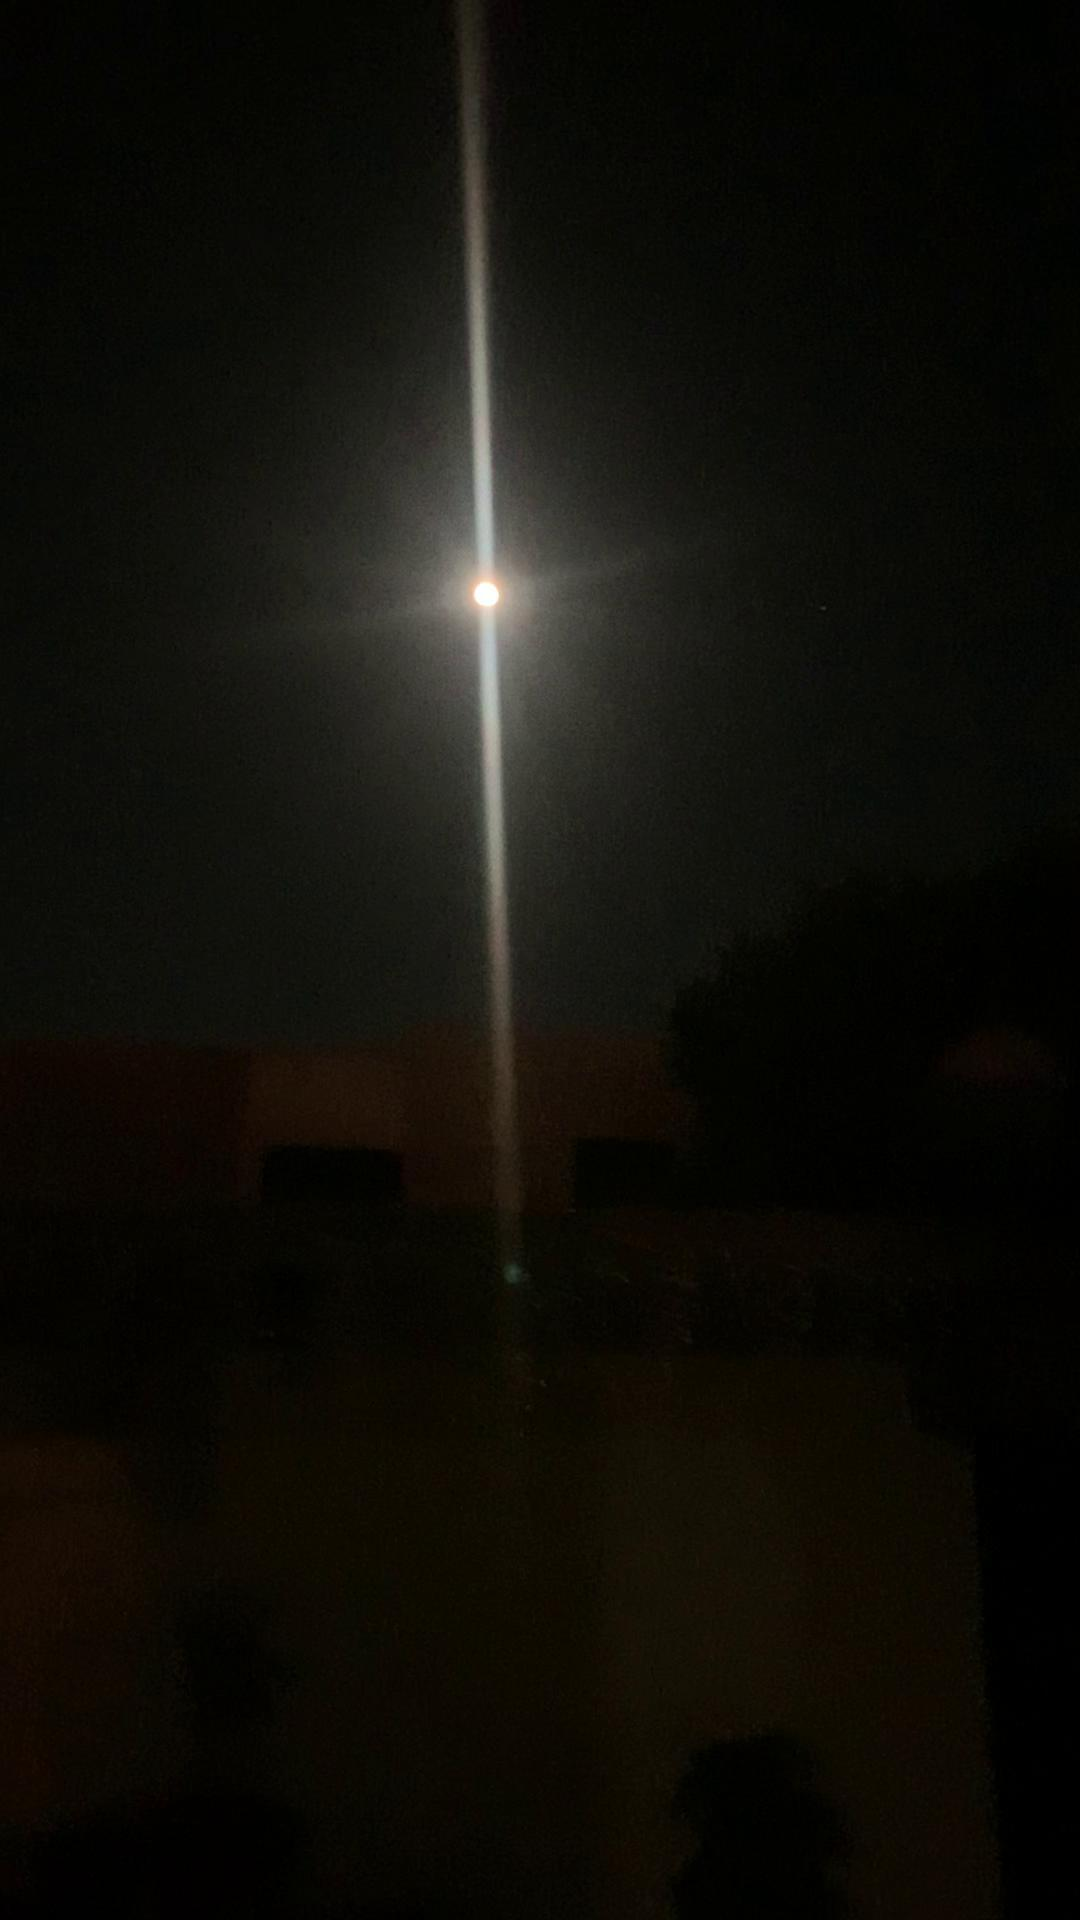moon: (462, 563, 537, 642)
